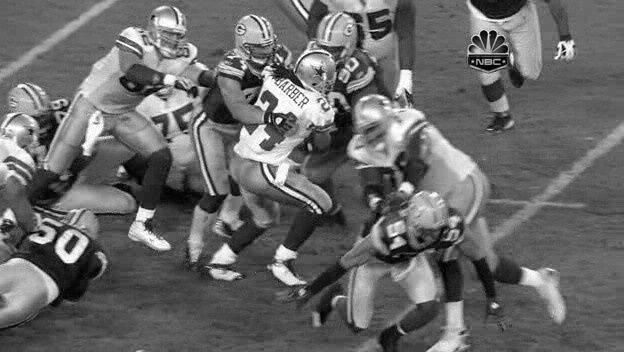person: (302, 52, 337, 97), (301, 52, 336, 97), (303, 52, 338, 97), (302, 51, 337, 96), (302, 53, 337, 98)
target_negative: (119, 95, 556, 327), (470, 54, 501, 193), (486, 27, 565, 60), (420, 109, 524, 130), (246, 349, 466, 350), (262, 120, 264, 162)
